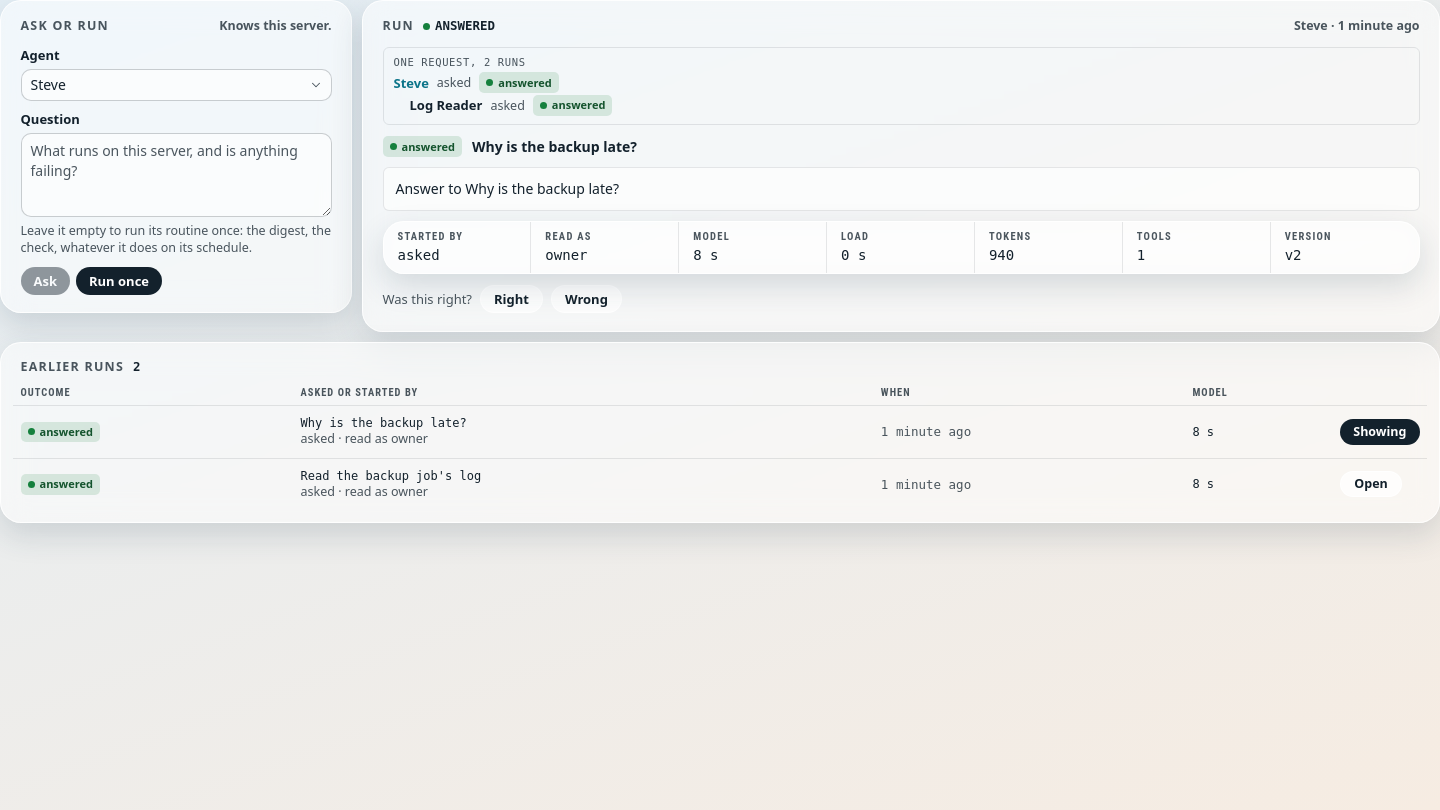
Scenario: one request, several runs › keeps a delegate's run open, though it is another agent's, when nothing was chosen for the page
The image size is (1440, 810).
Click the button "Log Reader": [446, 105] box [410,96,482,114]
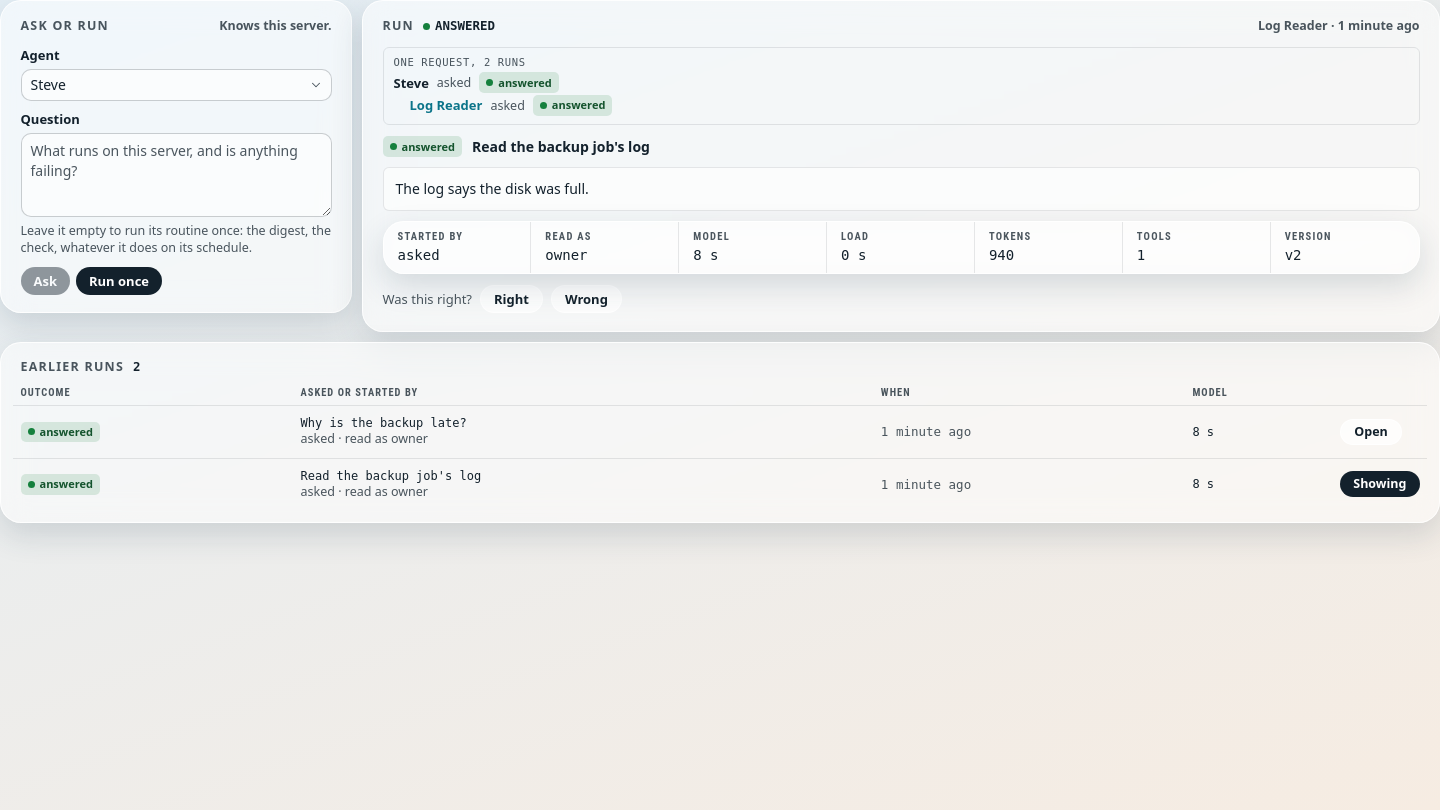
Now the text "The log says the disk was full." is shown, box [396,179,589,198]
